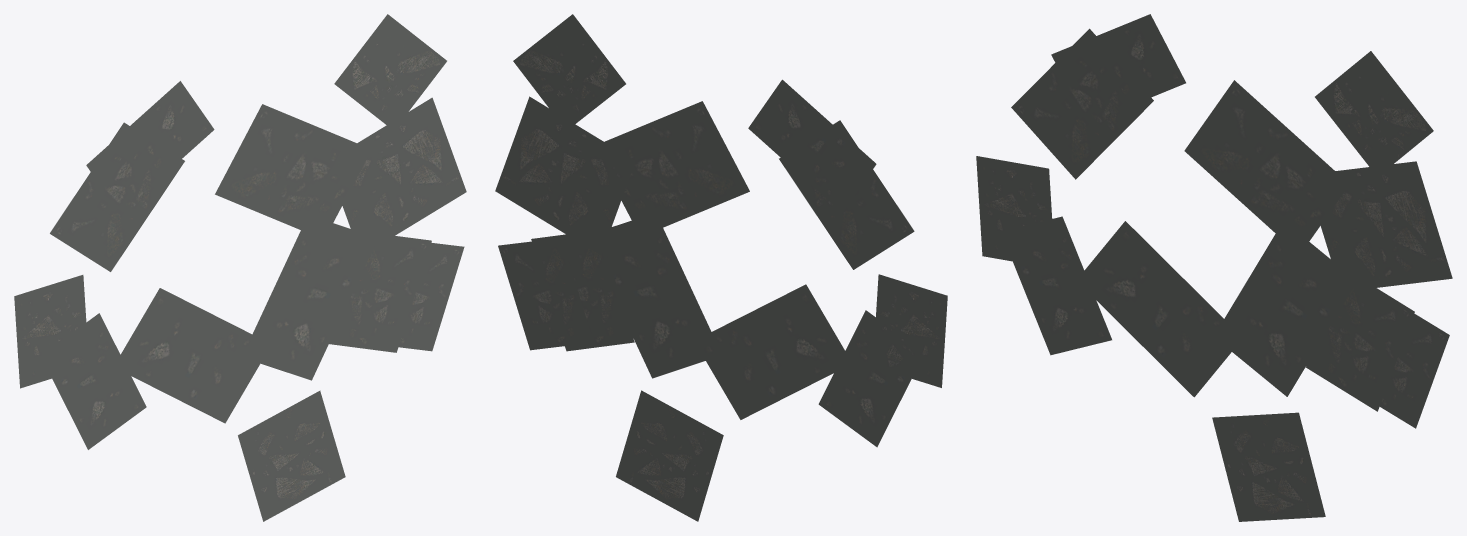
Rendered from hd_dec_UNI_001_Debris_Glass.glb.
3 views of the same model, side by side, from view 1: azimuth 30°, elevation 25°; view 2: azimuth 150°, elevation 25°; view 3: azimuth 330°, elevation 25° (orthographic). The views are drawn at different scales.
Visible parts, largest first — view 1: set_0_group_0; view 2: set_0_group_0; view 3: set_0_group_0.
Boxes of the visible parts, bbox=[...] form: set_0_group_0: bbox=[14, 14, 466, 521]; set_0_group_0: bbox=[495, 14, 947, 521]; set_0_group_0: bbox=[976, 14, 1452, 521].
Size of the model in its own units: 5.14 by 5.18 by 0.0514.
1 material, 1 textured.
